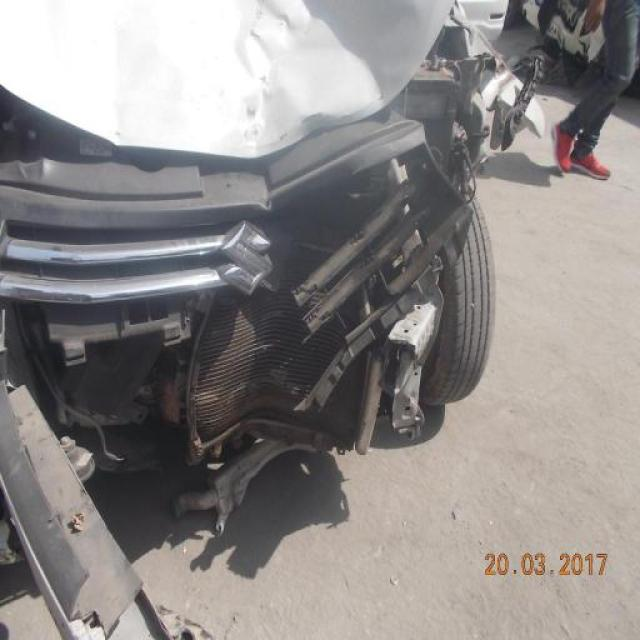crush: (0, 0, 497, 501)
